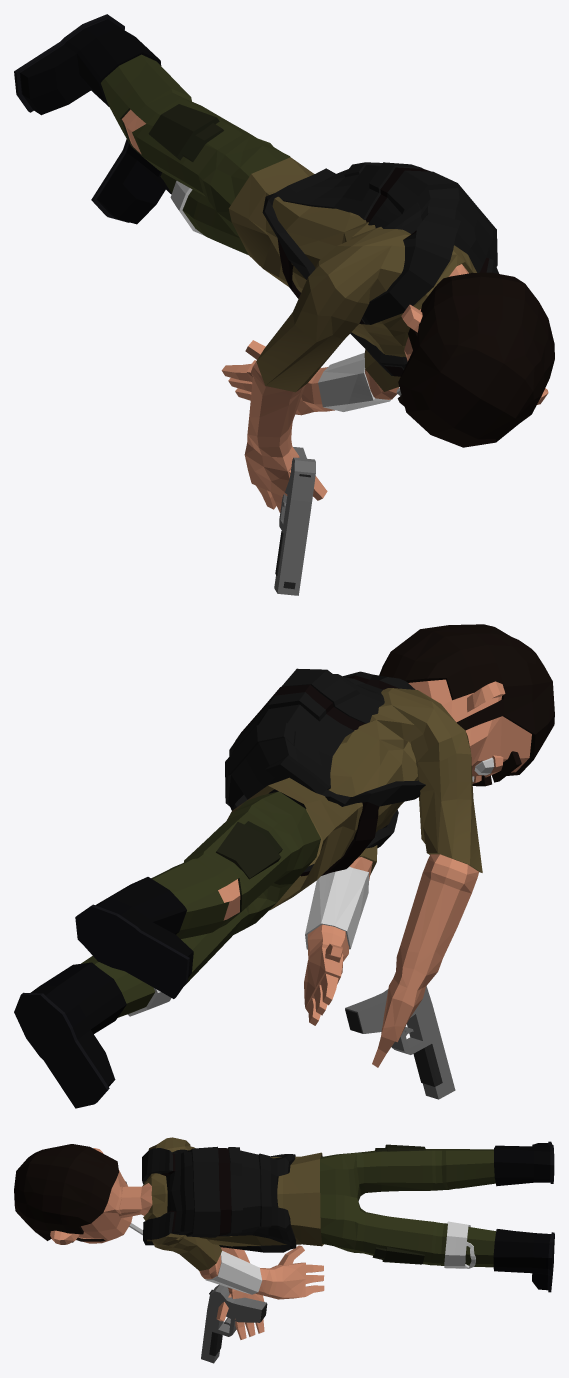
The model's file is frame_0030.obj.
3 renders of one model, top to bottom at view 1: azimuth 30°, elevation 25°; view 2: azimuth 150°, elevation 25°; view 3: azimuth 270°, elevation 25°, orthographic. The views are drawn at different scales.
Parts seen in each view (by area): view 1: Body, Gun; view 2: Body, Gun; view 3: Body, Gun.
Part boxes in pixels (bbox=[...]): Body: bbox=[14, 14, 554, 512]; Gun: bbox=[274, 447, 315, 595]; Body: bbox=[14, 624, 554, 1108]; Gun: bbox=[345, 986, 455, 1099]; Body: bbox=[14, 1137, 554, 1339]; Gun: bbox=[201, 1284, 267, 1363].
Size of the model in its own units: 1.32 by 2.13 by 4.15.
